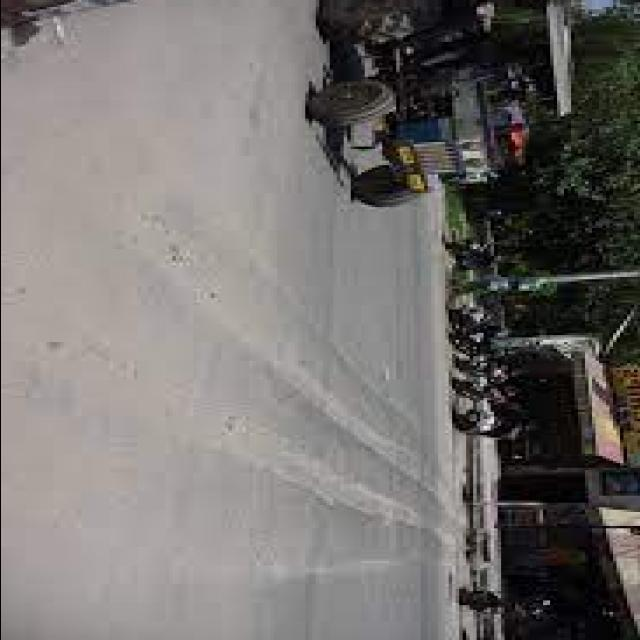speedbreaker: (65, 216, 463, 572)
